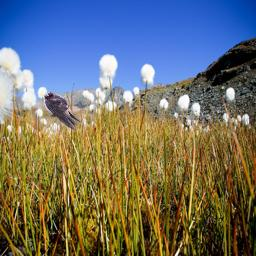Swallow: (43, 91, 81, 131)
